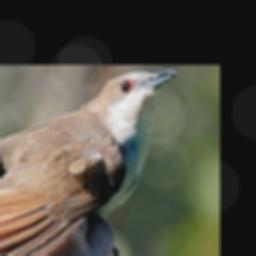Cuckoo: (0, 70, 178, 256)
